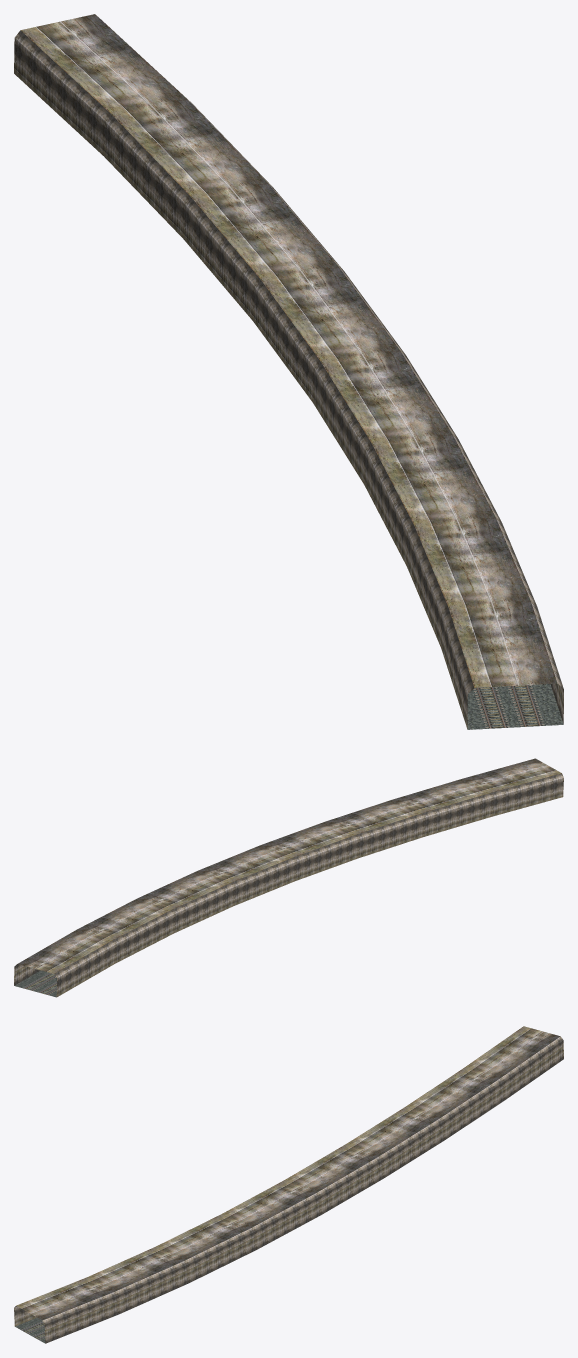
The model's file is stunnel_1a_sfse.obj.
The picture shows the model from 3 angles, top to bottom: view 1: azimuth 30°, elevation 25°; view 2: azimuth 150°, elevation 25°; view 3: azimuth 330°, elevation 25°; orthographic projection. The views are drawn at different scales.
Visible parts, largest first — view 1: Stunnel_1A_SFSe; view 2: Stunnel_1A_SFSe; view 3: Stunnel_1A_SFSe.
Boxes of the visible parts, x1=… form: Stunnel_1A_SFSe: x1=14, y1=14, x2=563, y2=729; Stunnel_1A_SFSe: x1=14, y1=758, x2=563, y2=997; Stunnel_1A_SFSe: x1=14, y1=1026, x2=563, y2=1343.
Bounding box in the file's own units: 44.77 × 14.79 × 166.
Materials: 4 (4 with a texture image).
